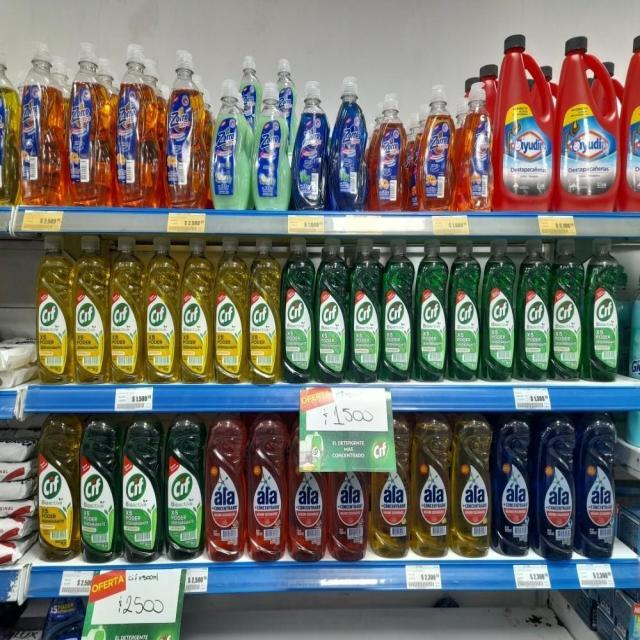ala_conc_amarillo: (452, 415, 492, 559), (370, 416, 410, 560), (412, 414, 451, 560)
ala_conc_azul: (536, 413, 576, 560), (493, 415, 532, 559), (578, 412, 616, 559)
ala_conc_rojo: (205, 415, 246, 562), (247, 417, 288, 562), (290, 434, 326, 563), (328, 468, 368, 562)
cif_conc_bot_amarilla: (38, 414, 78, 562), (36, 234, 72, 385), (74, 234, 108, 385), (110, 235, 144, 385), (145, 236, 179, 384), (248, 237, 281, 385), (214, 237, 247, 384), (180, 237, 212, 384)
cif_conc_botella_verde: (121, 416, 162, 563), (164, 414, 204, 560), (80, 417, 119, 562), (586, 240, 622, 382), (482, 241, 516, 383), (551, 239, 584, 382), (282, 238, 314, 384), (517, 241, 550, 382), (316, 240, 348, 384), (382, 242, 414, 383), (416, 242, 448, 383), (449, 242, 481, 382), (350, 241, 380, 383)
magistral_con_azul: (42, 597, 84, 640)
zorro: (114, 41, 160, 208), (66, 39, 111, 208), (162, 47, 206, 210), (210, 77, 250, 211), (416, 82, 456, 212), (252, 79, 290, 212), (370, 92, 411, 214), (0, 44, 17, 205)
